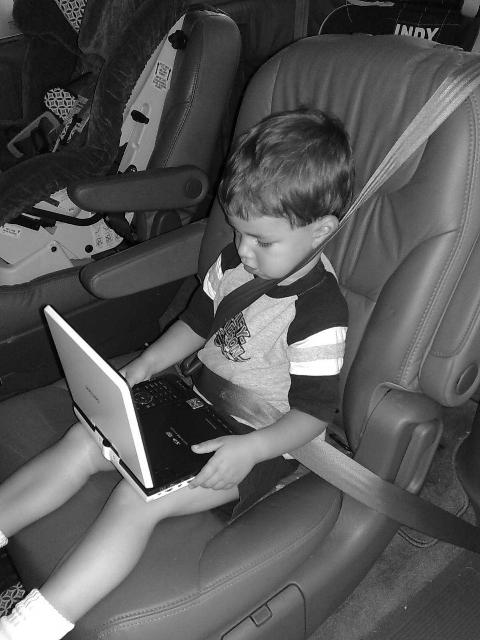Seatbelt: (180, 50, 480, 508)
